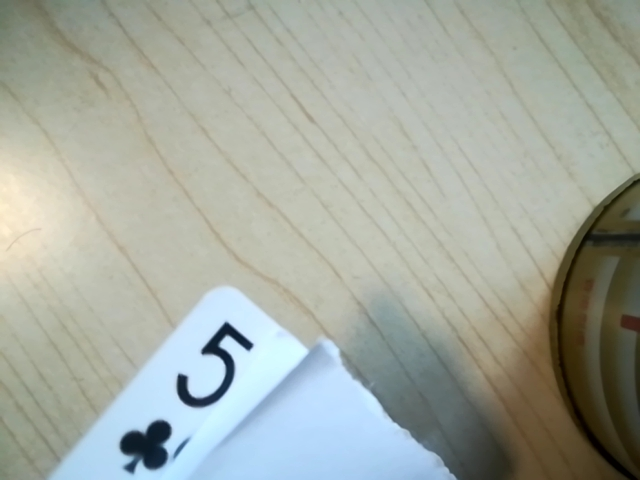mh 5: (115, 309, 266, 478)
